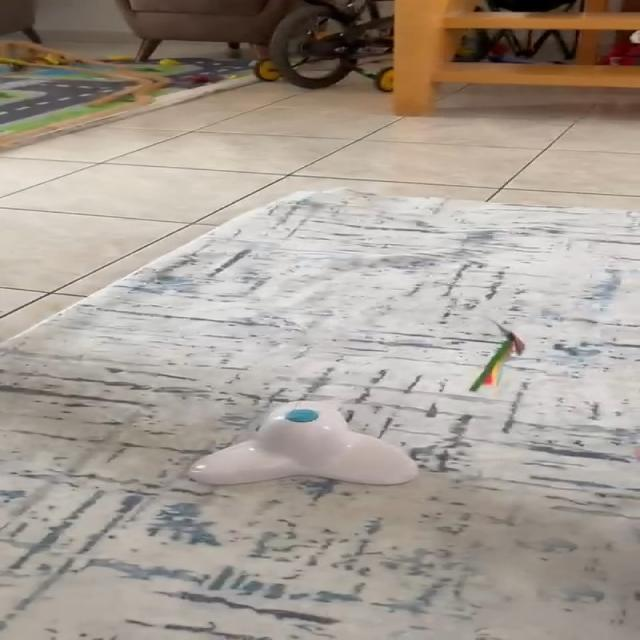authorized: (185, 399, 420, 486)
